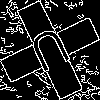U: (25, 25, 78, 82)
